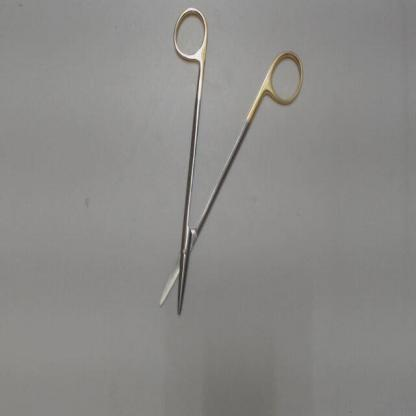7 Metzenbaum Scissors: (152, 2, 306, 322)
